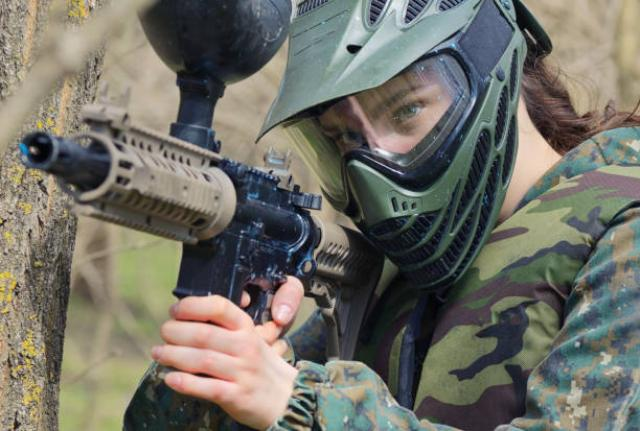other: (133, 0, 638, 429)
